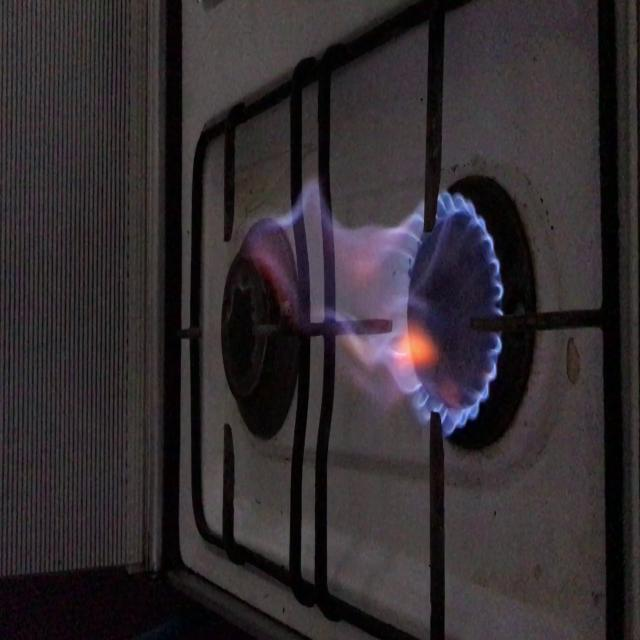Fire: (280, 194, 502, 428)
